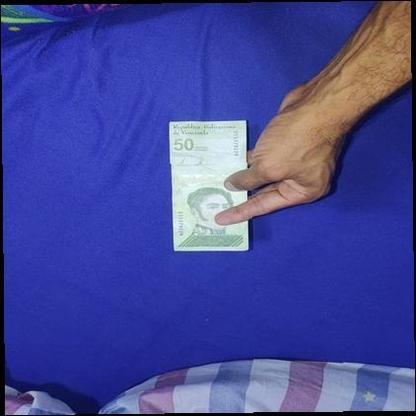fifty-front-vef: (168, 120, 248, 252)
